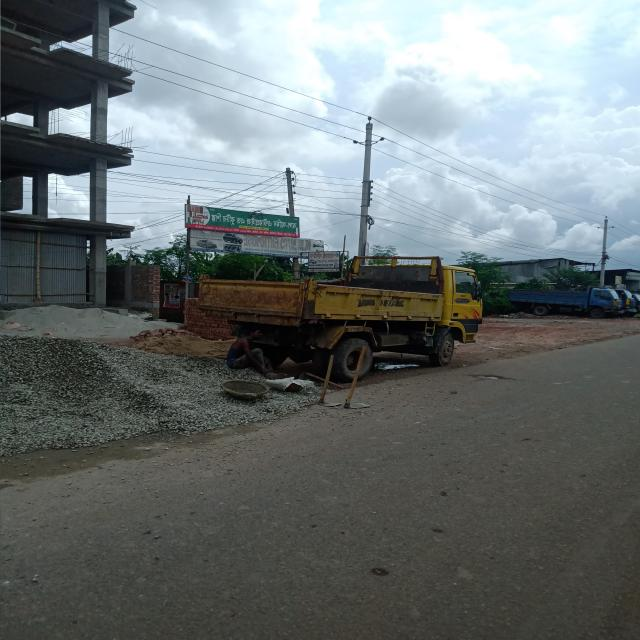truck: (196, 256, 482, 382)
